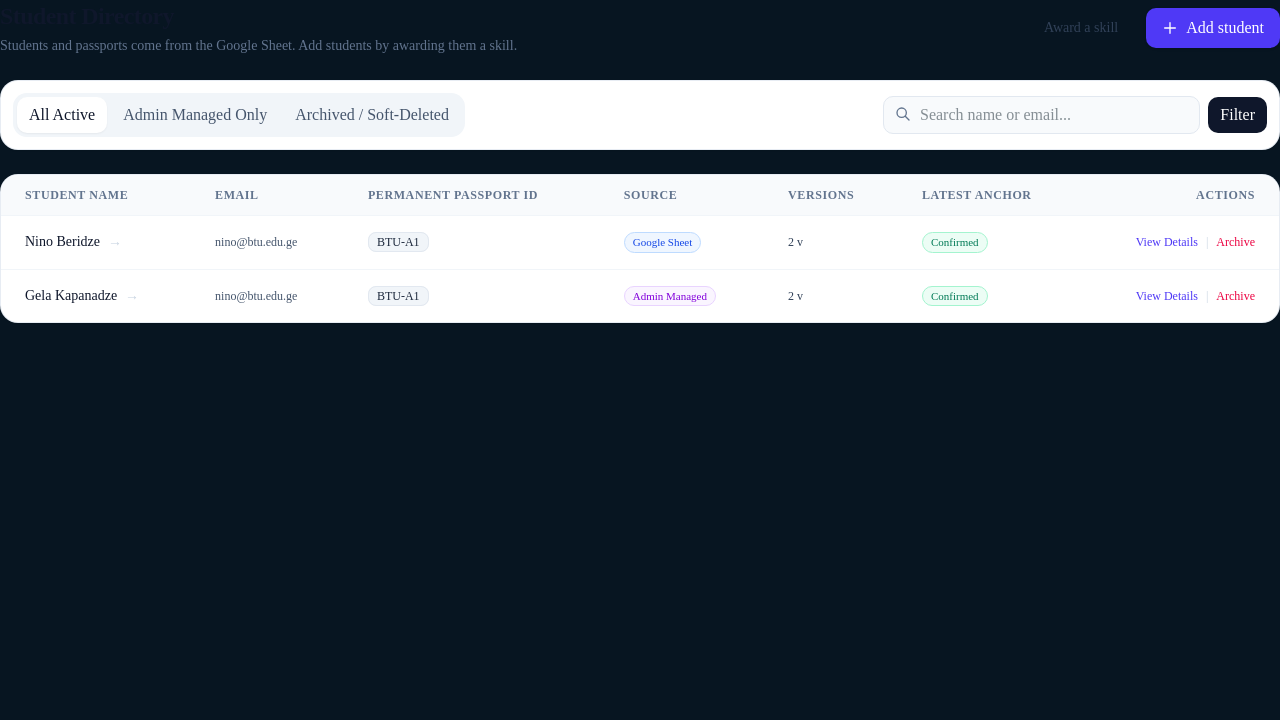
Test: student directory › does nothing when the admin presses Cancel
Expected: the link "Nino Beridze →" is shown, [25, 234, 122, 249]
Click the button "Archive" in the row of "Nino Beridze".
click(1236, 242)  # box [1216, 234, 1255, 250]
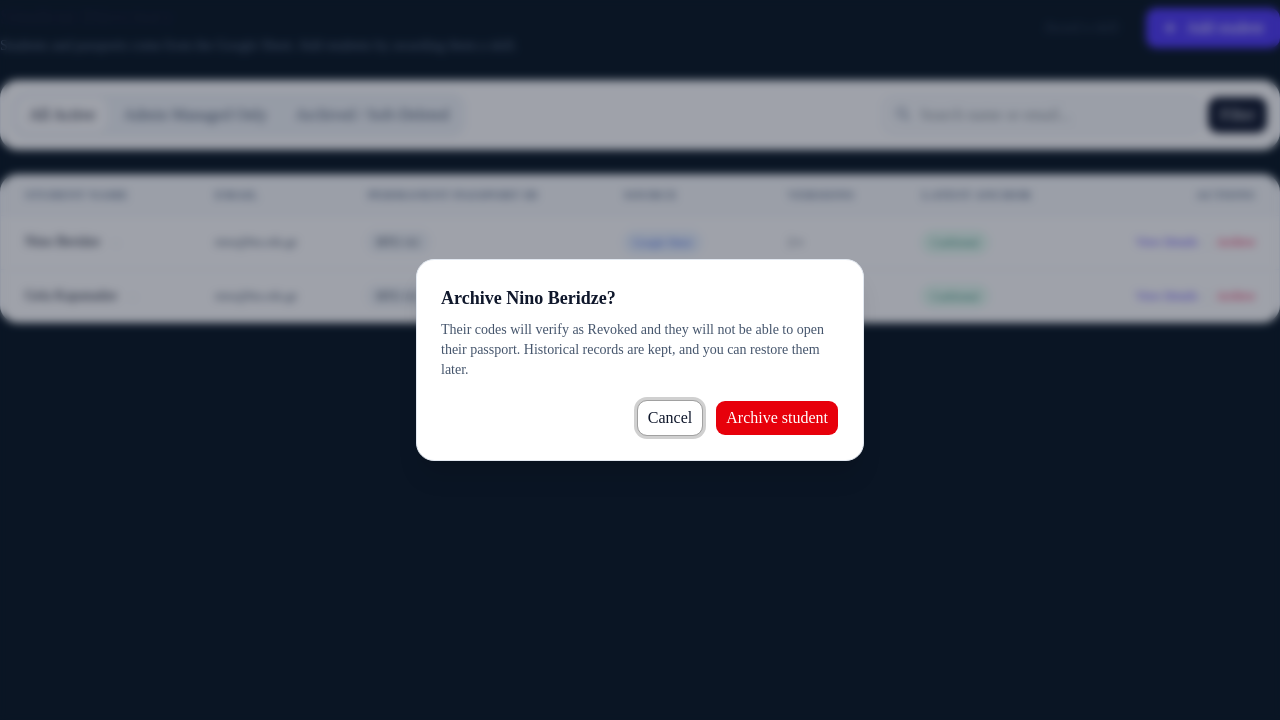
Click the button "Cancel".
click(670, 418)  # box [637, 400, 703, 436]
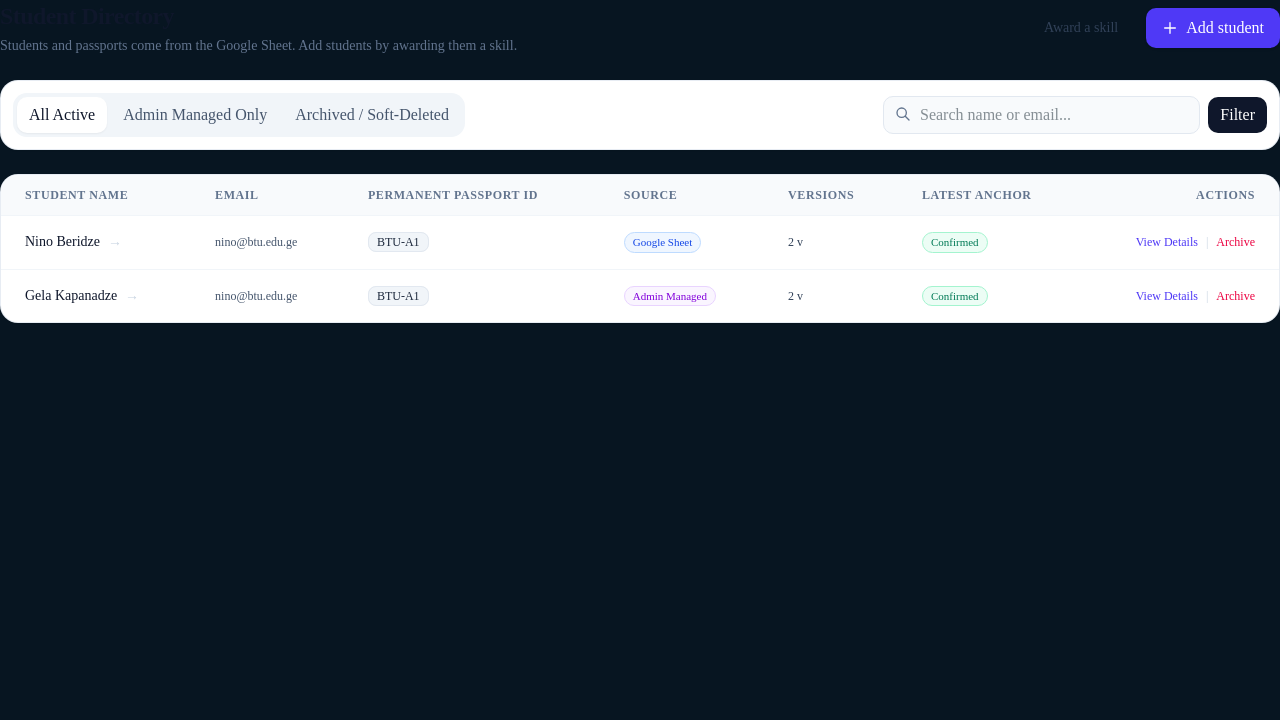
Expected: the dialog is gone
